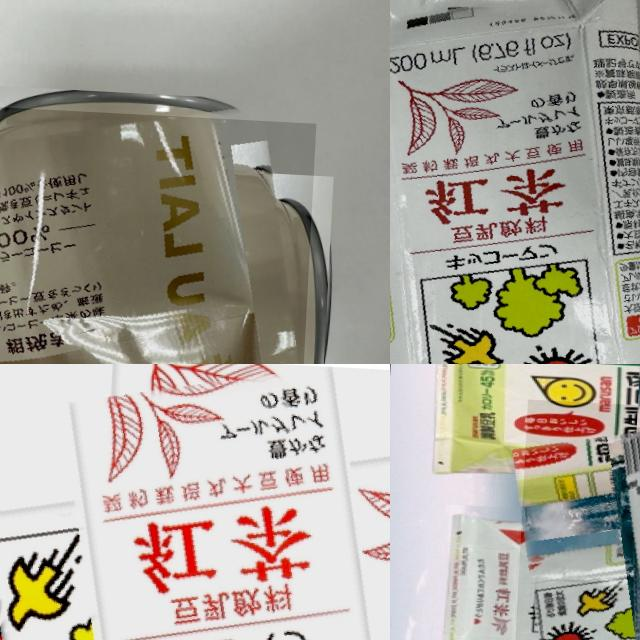Aluminium Foil: (0, 364, 390, 640), (390, 0, 640, 364), (510, 399, 640, 640), (425, 364, 640, 502)
Can: (0, 101, 316, 364)
